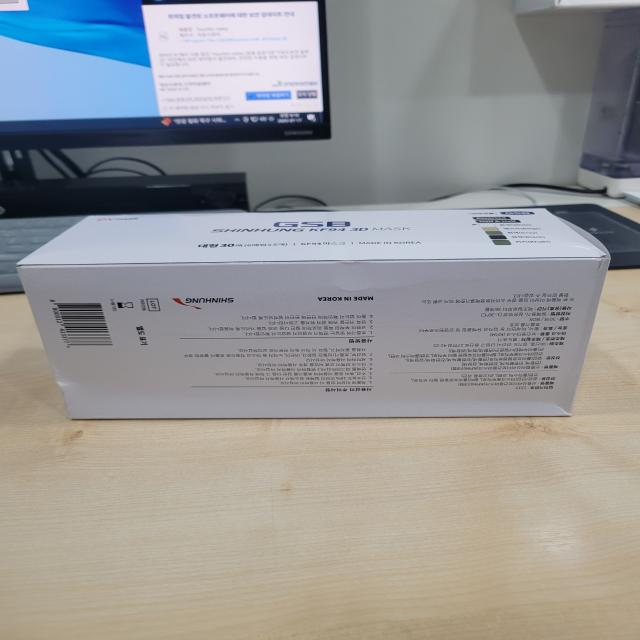mask: (0, 194, 640, 440)
